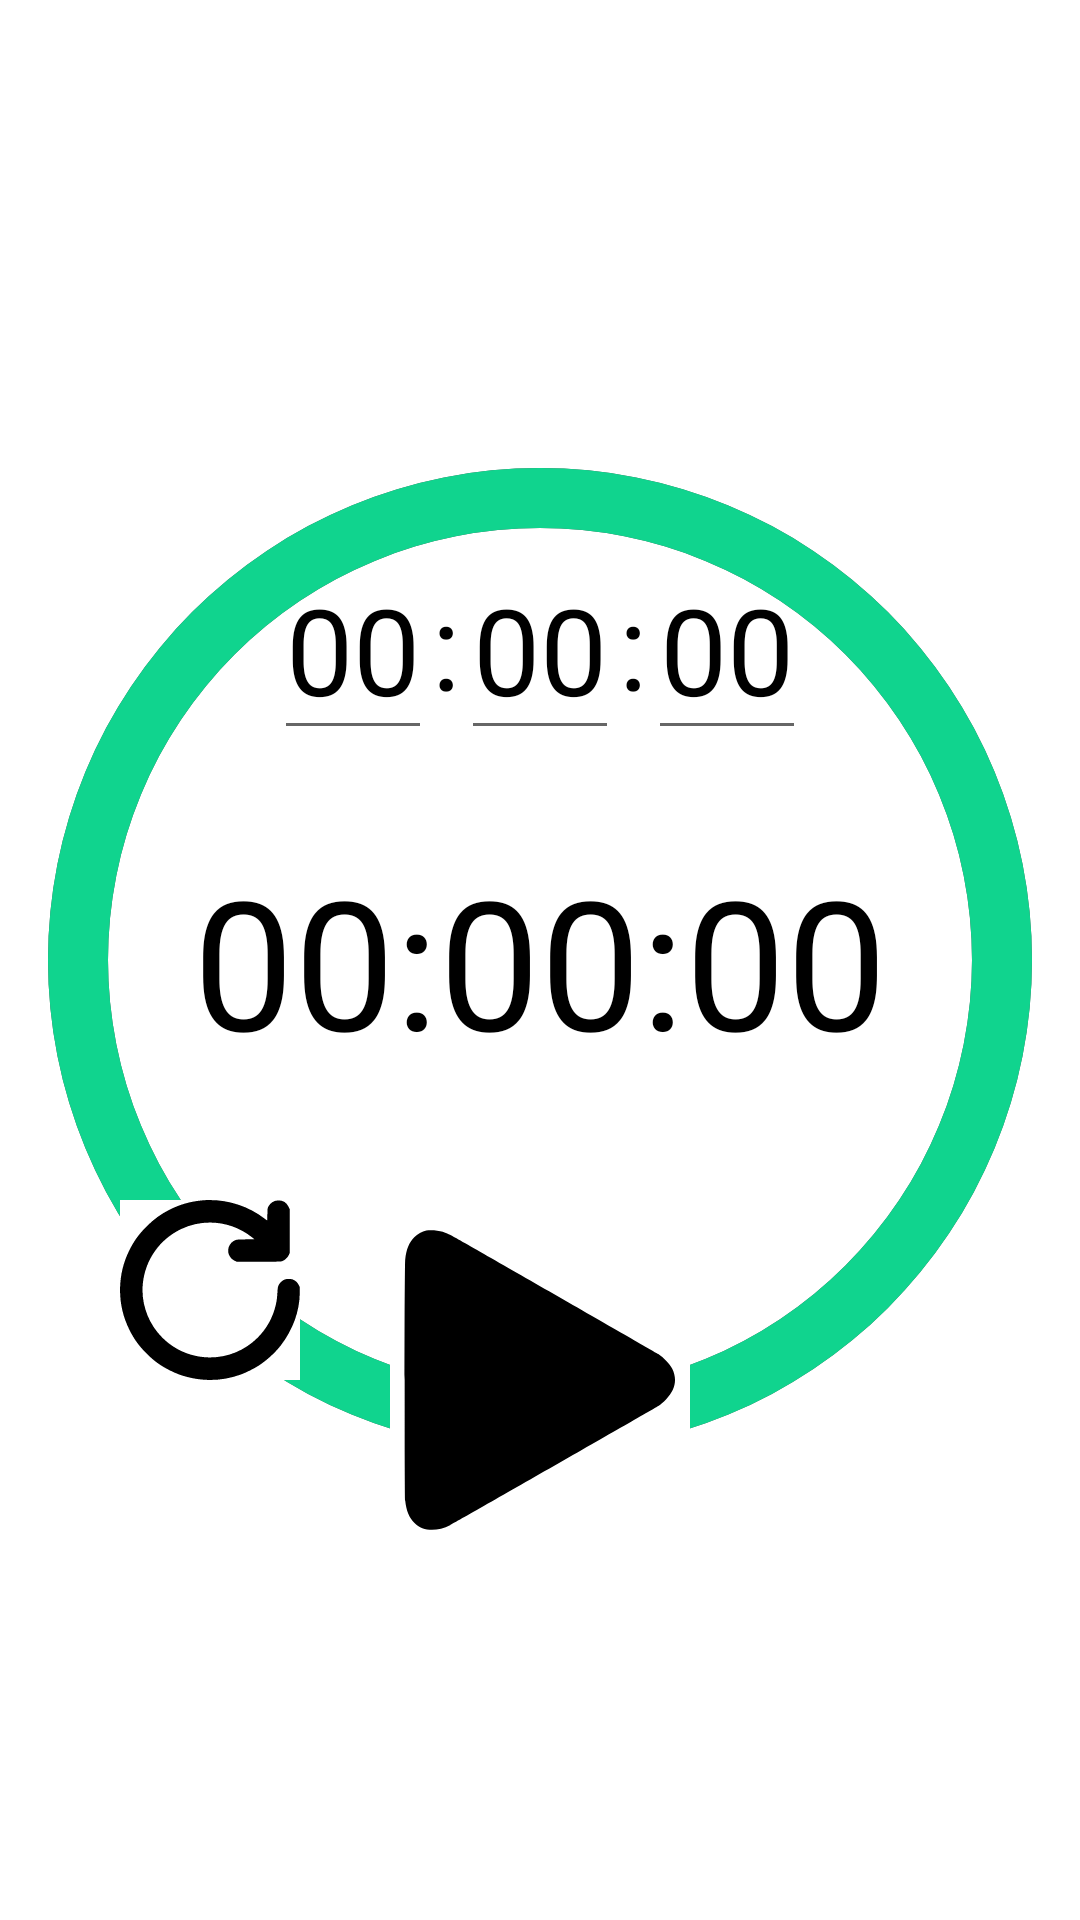

Locate icon controls on the screen. Image size 1080×1920, boxes as (x1,y1,x2,y2).
play: (404,1230,675,1530)
reiniciar: (120,1200,300,1380)
